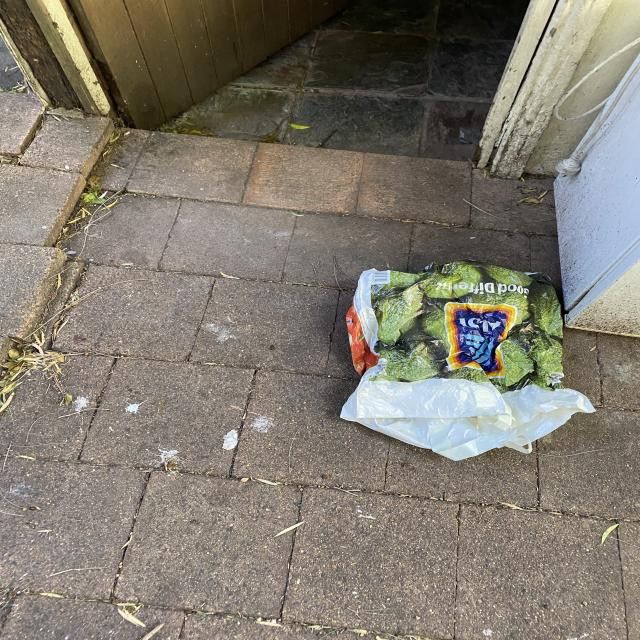bag: (340, 259, 596, 461)
